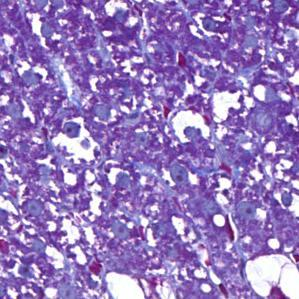ballooning: (237, 250, 299, 299)
